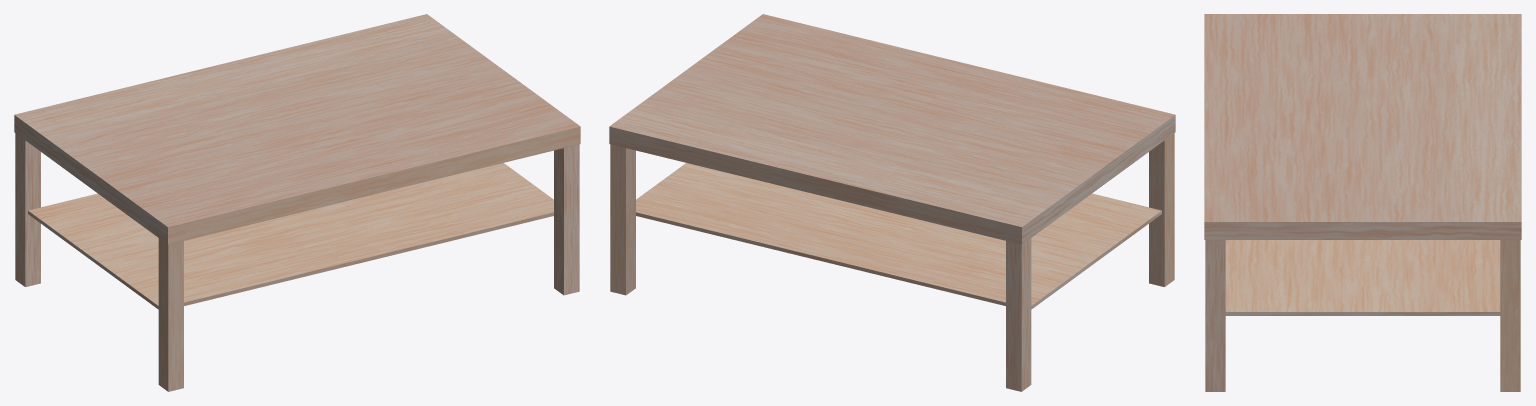
3 renders of one model, left to right at view 1: azimuth 30°, elevation 25°; view 2: azimuth 150°, elevation 25°; view 3: azimuth 270°, elevation 25°, orthographic. The views are drawn at different scales.
Parts seen in each view (by area): view 1: pCube4; view 2: pCube4; view 3: pCube4.
Boxes of the visible parts, x1,y1,x2,y2 form: pCube4: [14, 14, 580, 391]; pCube4: [609, 14, 1175, 391]; pCube4: [1204, 14, 1521, 391].
Bounding box in the file's own units: 0.5932 × 0.2269 × 0.3826.
Materials: 1 (1 with a texture image).
